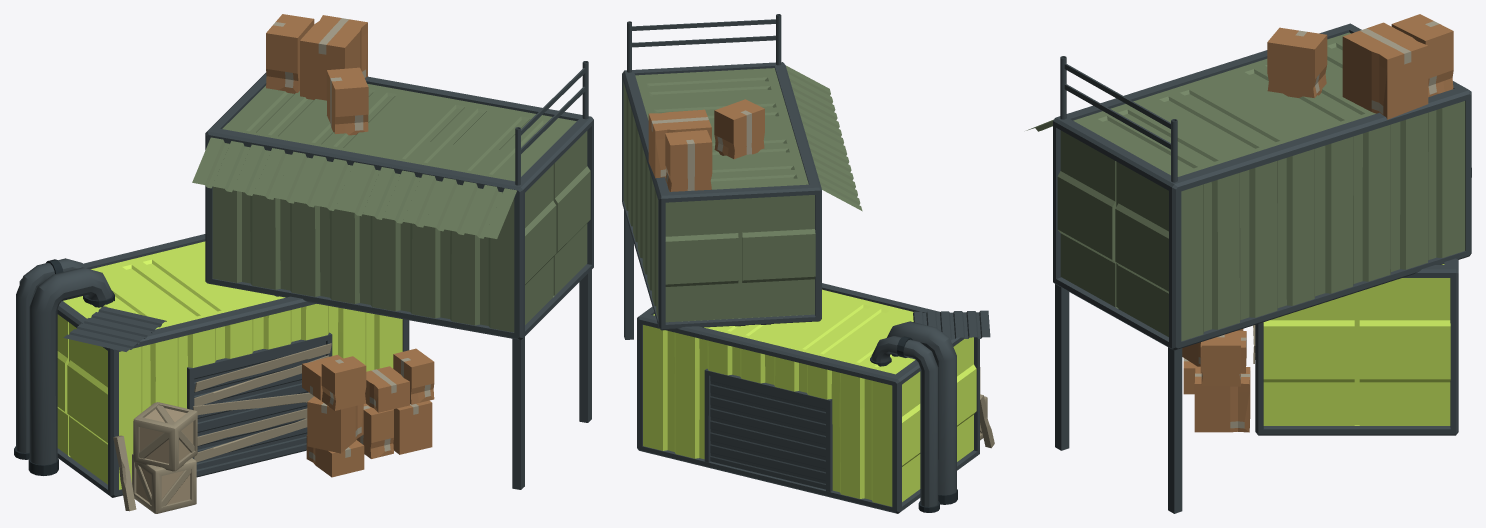
The model's file is tactical-structure.glb.
3 renders of one model, left to right at view 1: azimuth 30°, elevation 25°; view 2: azimuth 150°, elevation 25°; view 3: azimuth 270°, elevation 25°, orthographic. The views are drawn at different scales.
Parts seen in each view (by area): view 1: Structure_2.001; view 2: Structure_2.001; view 3: Structure_2.001.
Boxes of the visible parts, <box> form: Structure_2.001: <box>14,14,593,513</box>; Structure_2.001: <box>622,14,994,513</box>; Structure_2.001: <box>1026,14,1471,513</box>.
Size of the model in its own units: 10.58 by 7.79 by 7.97.
